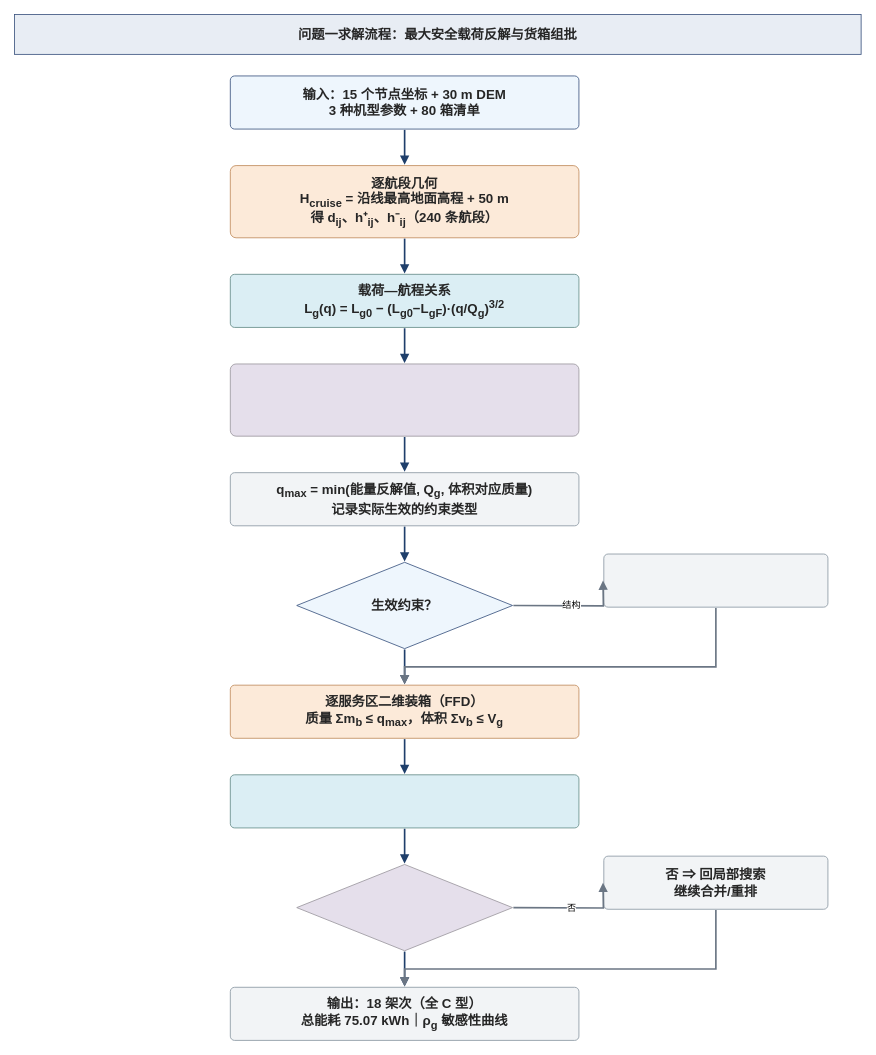
Some shapes in this 876 by 1055 pixel diagram are drawn without their labels. The centre of each missing label's shape, as x and y in pixels:
下界校验：Martello–Toth 型解析下界 LB = max(⌈Σm/q max ⌉, ⌈Σv/V g ⌉): [404,801]
启发式解 = 下界？: [404,907]
结构/体积生效 ⇒ q max = Q g: [715,580]
能量约束取等号反解 E g T (q) = (1−ρ g )·E g use （单调 + Brent 法，回代误差 5.6e-15）: [404,399]
